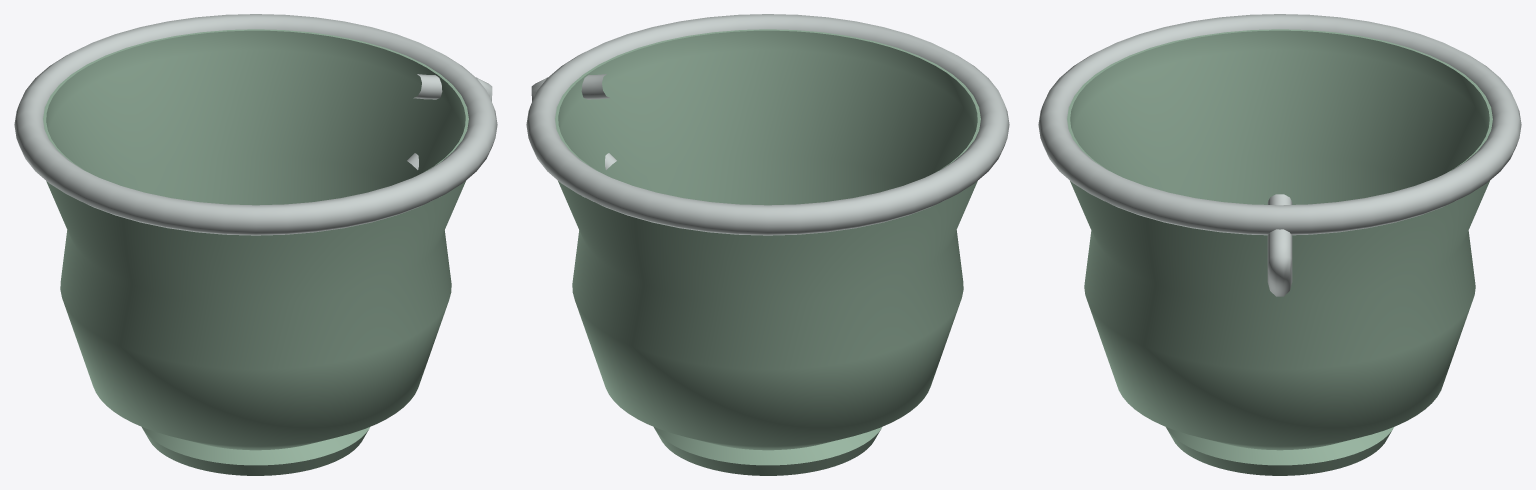
The model's file is ceramics-pottery-studio-glaze-dipping-vat-b8634408__29495.glb.
3 views of the same model, side by side, from view 1: azimuth 30°, elevation 25°; view 2: azimuth 150°, elevation 25°; view 3: azimuth 270°, elevation 25° (orthographic).
Visible parts, largest first — view 1: glaze-dipping-vat; view 2: glaze-dipping-vat; view 3: glaze-dipping-vat.
Boxes of the visible parts, x1,y1,x2,y2 form: glaze-dipping-vat: [14, 14, 497, 475]; glaze-dipping-vat: [526, 14, 1009, 475]; glaze-dipping-vat: [1038, 14, 1521, 475].
Size of the model in its own units: 0.8376 by 0.5738 by 0.79.
